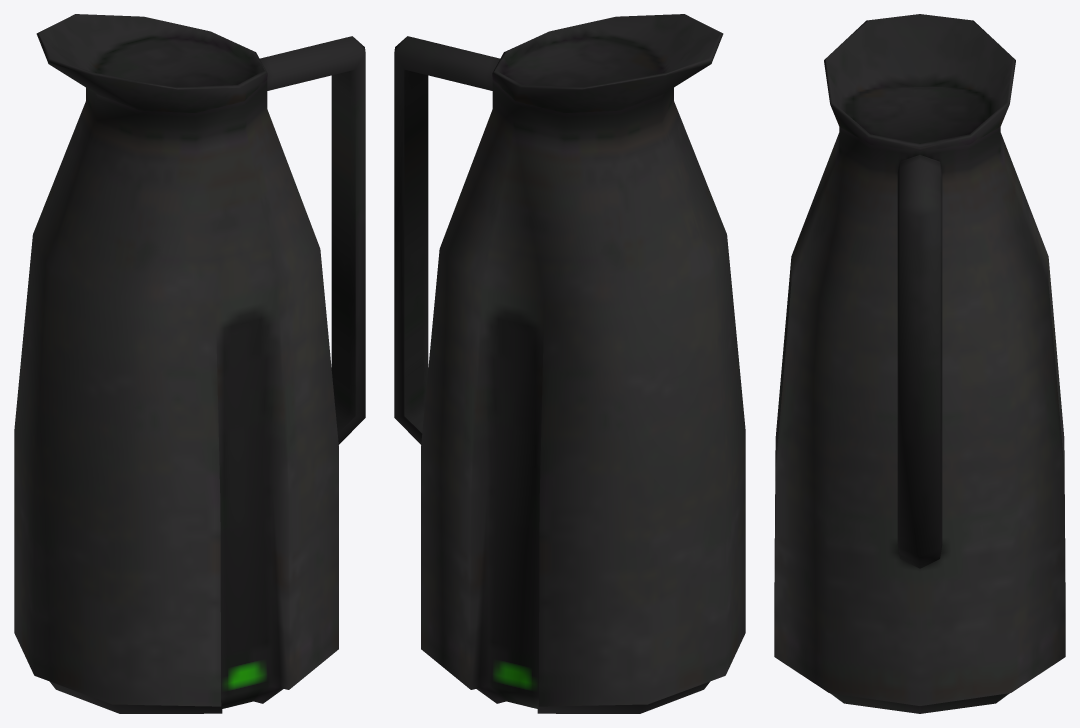
Rendered from Thermos01.FBX.
The picture shows the model from 3 angles, left to right: view 1: azimuth 30°, elevation 25°; view 2: azimuth 150°, elevation 25°; view 3: azimuth 270°, elevation 25°; orthographic projection. The views are drawn at different scales.
Visible parts, largest first — view 1: Thermos01; view 2: Thermos01; view 3: Thermos01.
Part boxes in pixels (x1,y1,x2,y2): Thermos01: [14, 14, 365, 713]; Thermos01: [394, 14, 745, 713]; Thermos01: [774, 14, 1065, 713].
Bounding box in the file's own units: 0.191 × 0.3499 × 0.1569.
